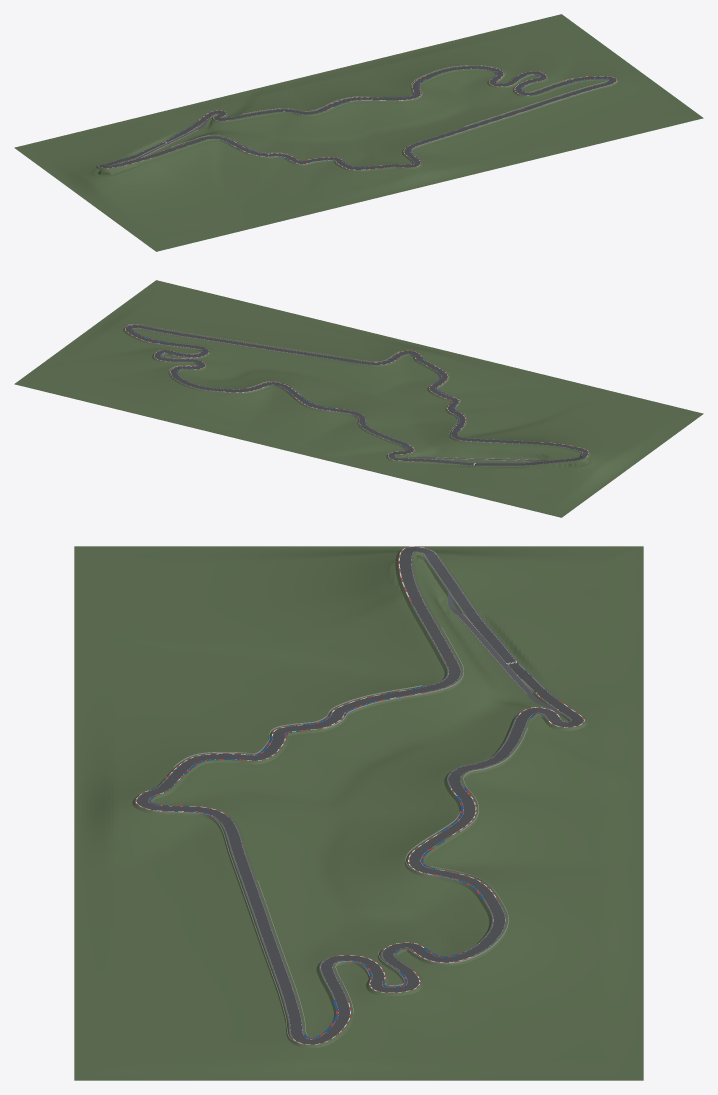
File: CircuitOfTheAmericas.fbx
3 renders of one model, top to bottom at view 1: azimuth 30°, elevation 25°; view 2: azimuth 150°, elevation 25°; view 3: azimuth 270°, elevation 25°, orthographic. The views are drawn at different scales.
Parts seen in each view (by area): view 1: Graded verge, Racing surface, Paved track shoulder, Road-course barrier; view 2: Graded verge, Racing surface, Paved track shoulder, Road-course barrier; view 3: Graded verge, Racing surface, Paved track shoulder, Road-course barrier, Segmented curb, Painted runoff.001, Pit entry.
Part boxes in pixels (left/top/right/bottom): Graded verge: left=14, top=14, right=703, bottom=251; Racing surface: left=98, top=66, right=616, bottom=169; Paved track shoulder: left=98, top=66, right=616, bottom=170; Road-course barrier: left=137, top=65, right=617, bottom=170; Graded verge: left=14, top=280, right=703, bottom=517; Racing surface: left=125, top=325, right=588, bottom=465; Paved track shoulder: left=124, top=324, right=589, bottom=465; Road-course barrier: left=128, top=324, right=529, bottom=461; Graded verge: left=74, top=546, right=643, bottom=1080; Racing surface: left=136, top=547, right=583, bottom=1044; Paved track shoulder: left=135, top=546, right=585, bottom=1044; Road-course barrier: left=152, top=613, right=532, bottom=1045; Segmented curb: left=135, top=546, right=583, bottom=1044; Painted runoff.001: left=148, top=686, right=543, bottom=1039; Pit entry: left=448, top=591, right=561, bottom=714.
Bounding box in the file's own units: 154450 × 4064 × 69502.
